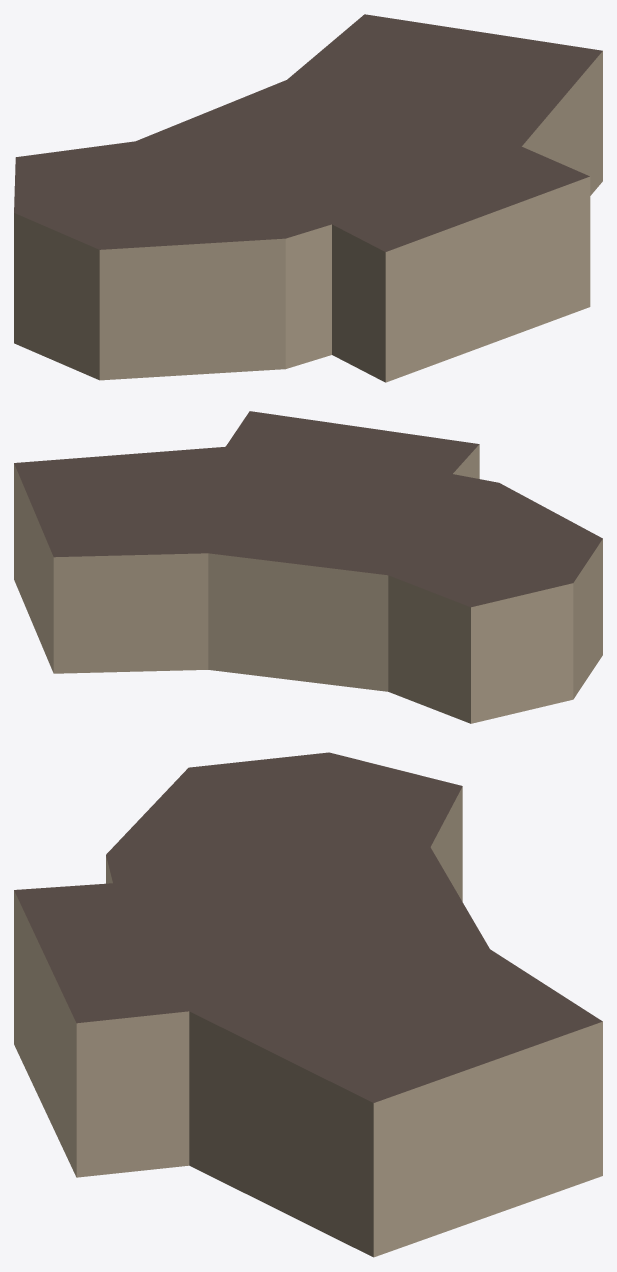
3 views of the same model, one above another, from view 1: azimuth 30°, elevation 25°; view 2: azimuth 150°, elevation 25°; view 3: azimuth 270°, elevation 25° (orthographic). The views are drawn at different scales.
Visible parts, largest first — view 1: HP-w350277190; view 2: HP-w350277190; view 3: HP-w350277190.
Boxes of the visible parts, bbox=[...] form: HP-w350277190: bbox=[14, 14, 602, 382]; HP-w350277190: bbox=[14, 411, 602, 723]; HP-w350277190: bbox=[14, 752, 602, 1257].
Size of the model in its own units: 43.85 by 9 by 31.12.
